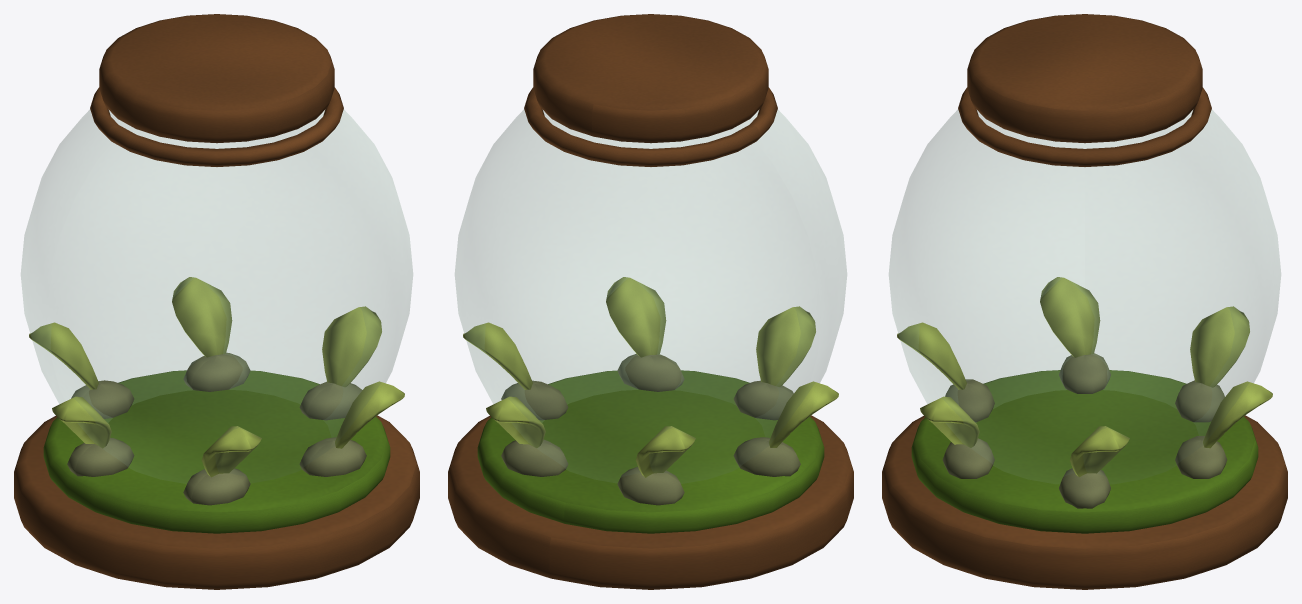
Rendered from habitat.glb.
3 renders of one model, left to right at view 1: azimuth 30°, elevation 25°; view 2: azimuth 150°, elevation 25°; view 3: azimuth 270°, elevation 25°, orthographic.
Visible parts, largest first — view 1: Wooden pedestal; view 2: Wooden pedestal; view 3: Wooden pedestal.
Boxes of the visible parts, x1,y1,x2,y2 form: Wooden pedestal: [14, 14, 419, 589]; Wooden pedestal: [448, 14, 853, 589]; Wooden pedestal: [882, 14, 1287, 589].
Size of the model in its own units: 1.24 by 1.51 by 1.24.
Materials: 2 (2 with a texture image).
